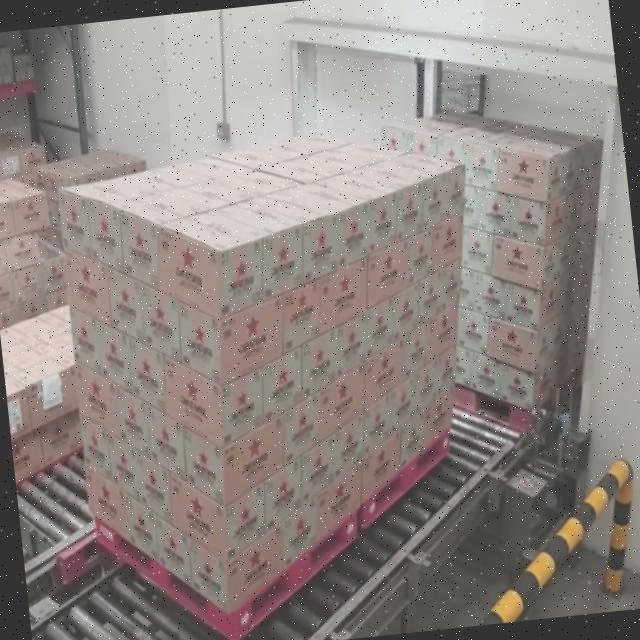pallet: (47, 129, 370, 640), (401, 74, 638, 448), (312, 101, 508, 543)
